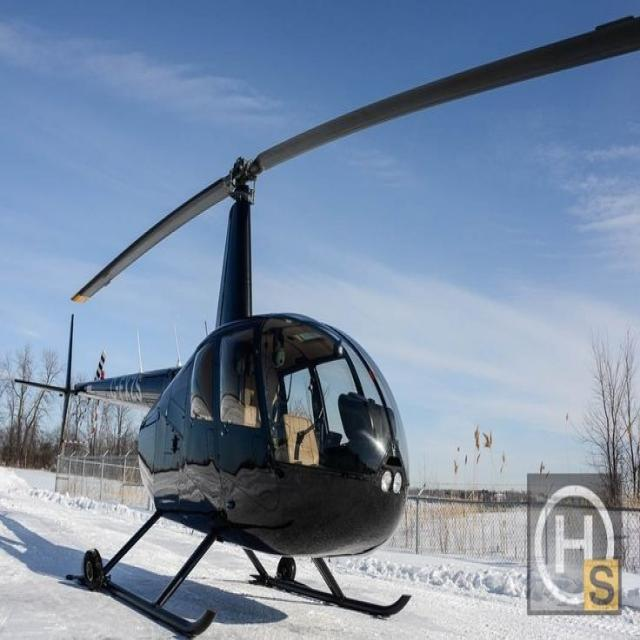CIV_HELO: (14, 148, 415, 640)
